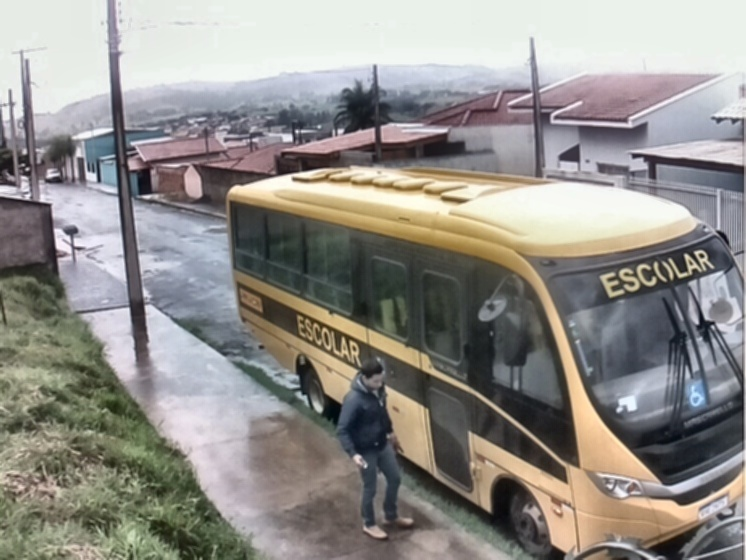person: (335, 358, 418, 540)
